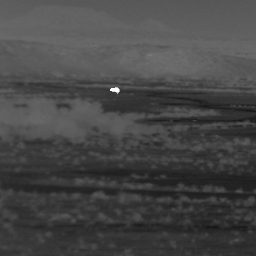Target: (109, 86, 121, 94)
